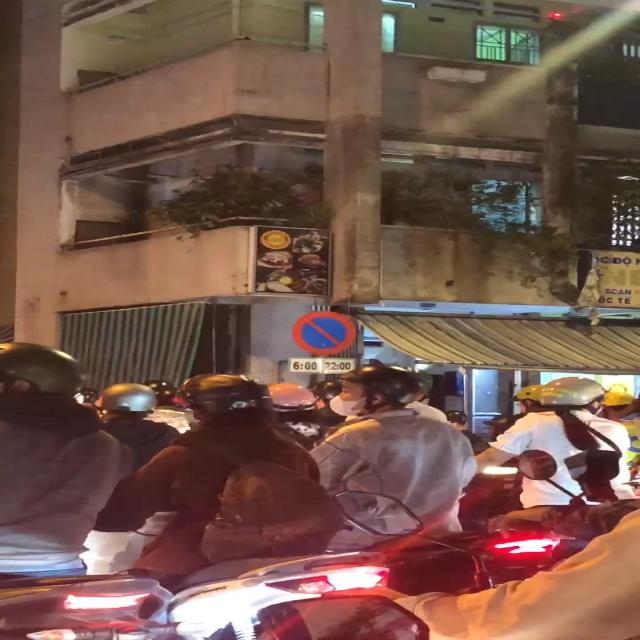Bien bao cam do xe: (290, 308, 360, 354)
